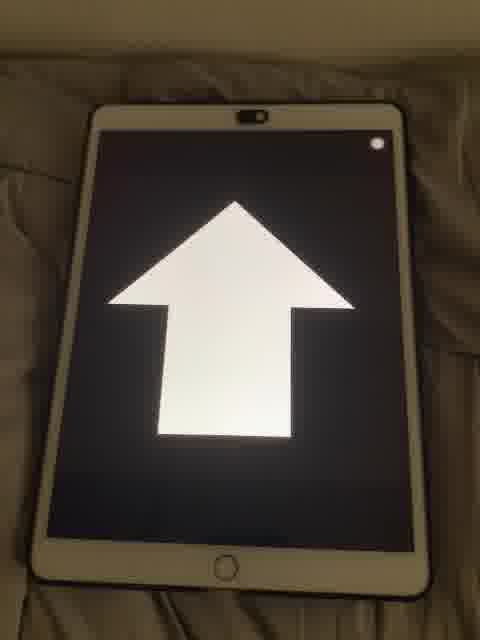up: (105, 195, 357, 444)
